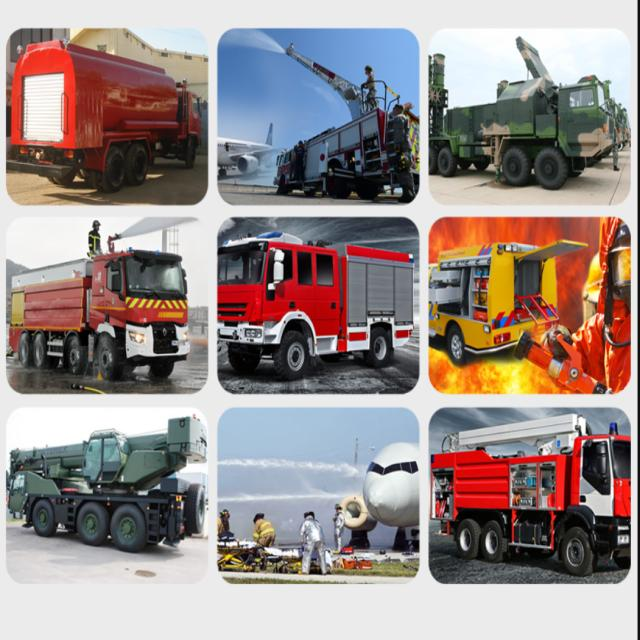fire brigade: (2, 19, 214, 193), (446, 434, 640, 581), (226, 240, 413, 369), (19, 225, 176, 362)
